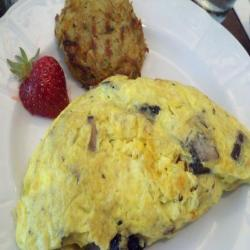omelette: (35, 81, 242, 236)
